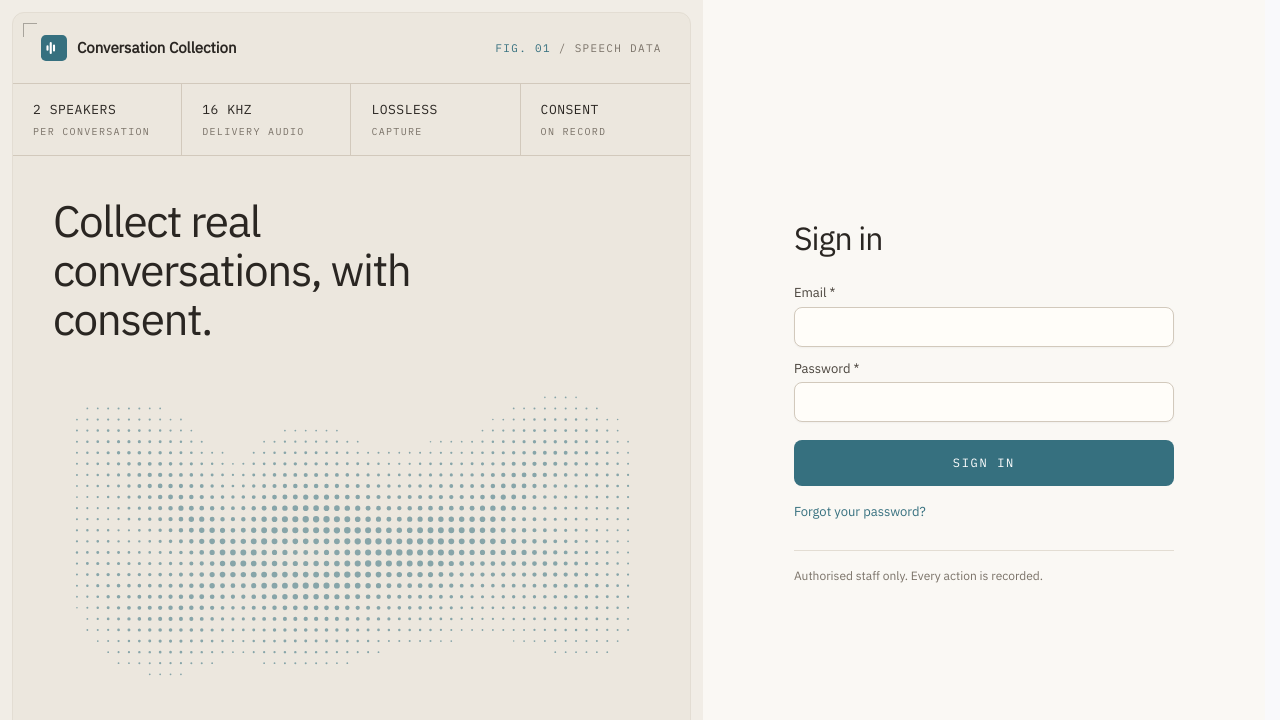
it: LoginPage › asks for the authenticator code, then signs in and goes to the requested page
This screenshot has width=1280, height=720.
Type "admin@example.org" into the field labelled "Email *" at (984,327), box [794,307,1174,347]
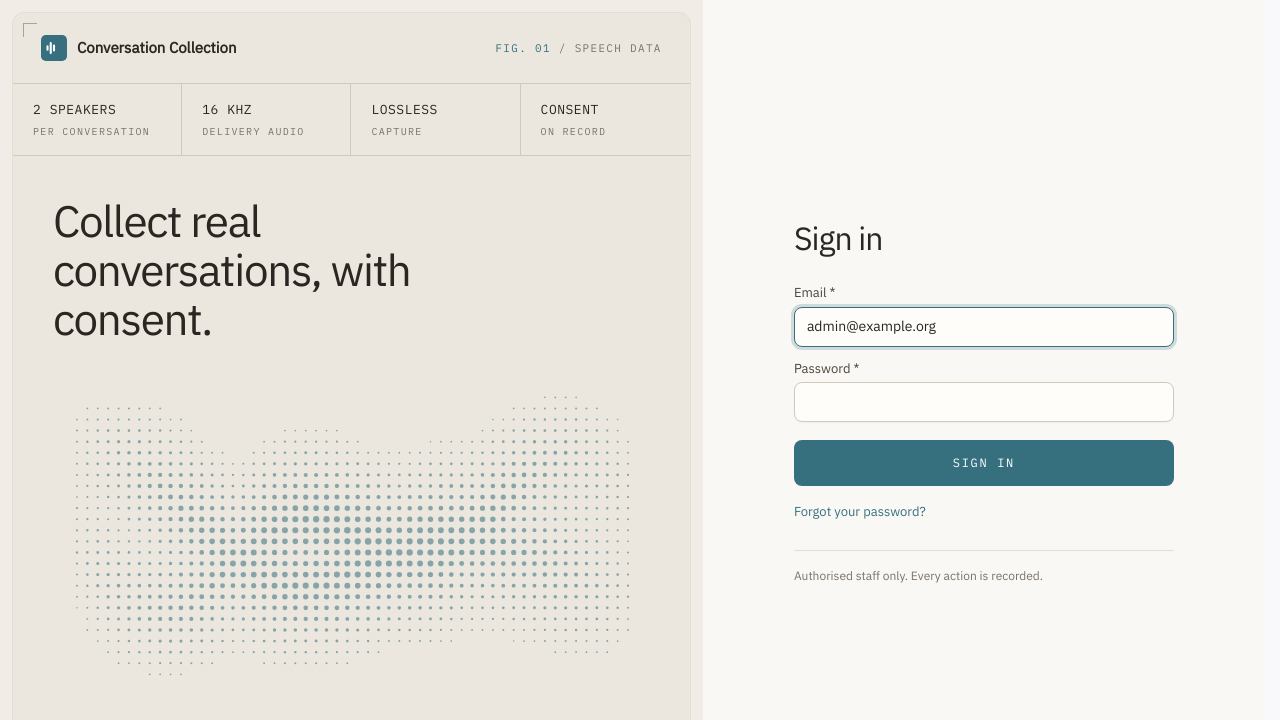
Type "secret-password" into the password field labelled "Password *" at (984,402), box [794,382,1174,422]
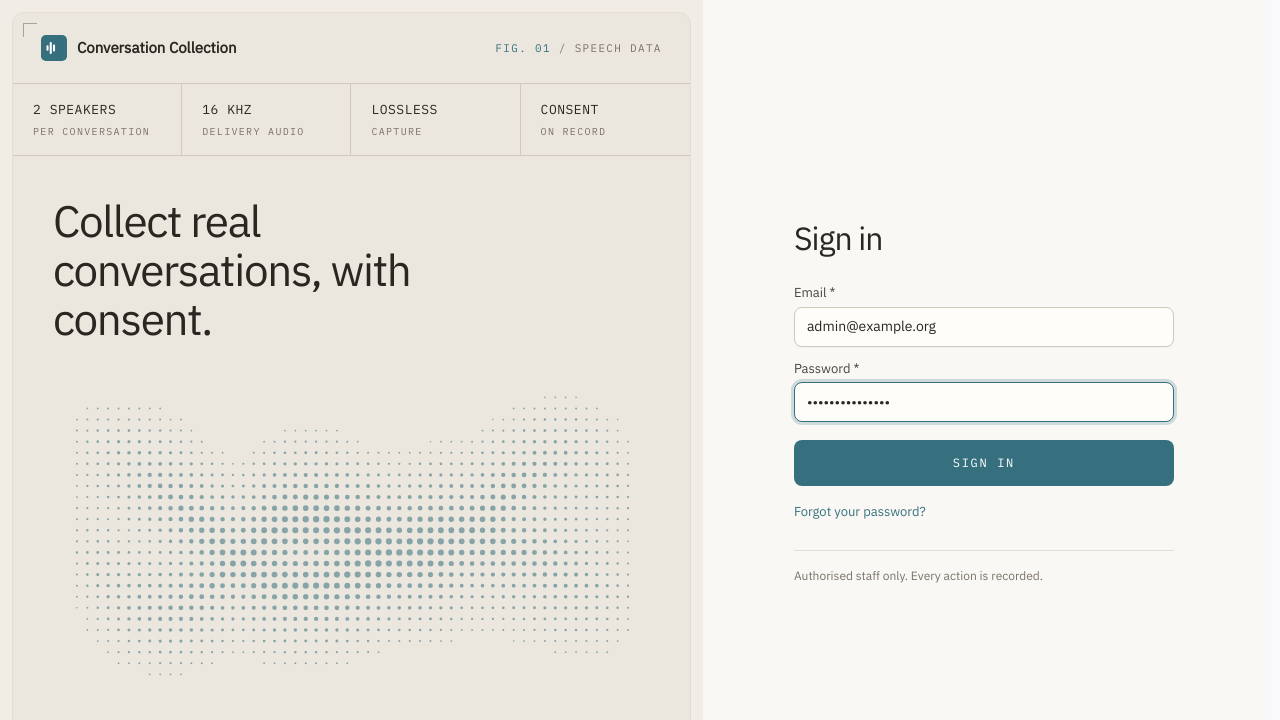
Click the button "Sign in" at (984,463), box [794,440,1174,486]
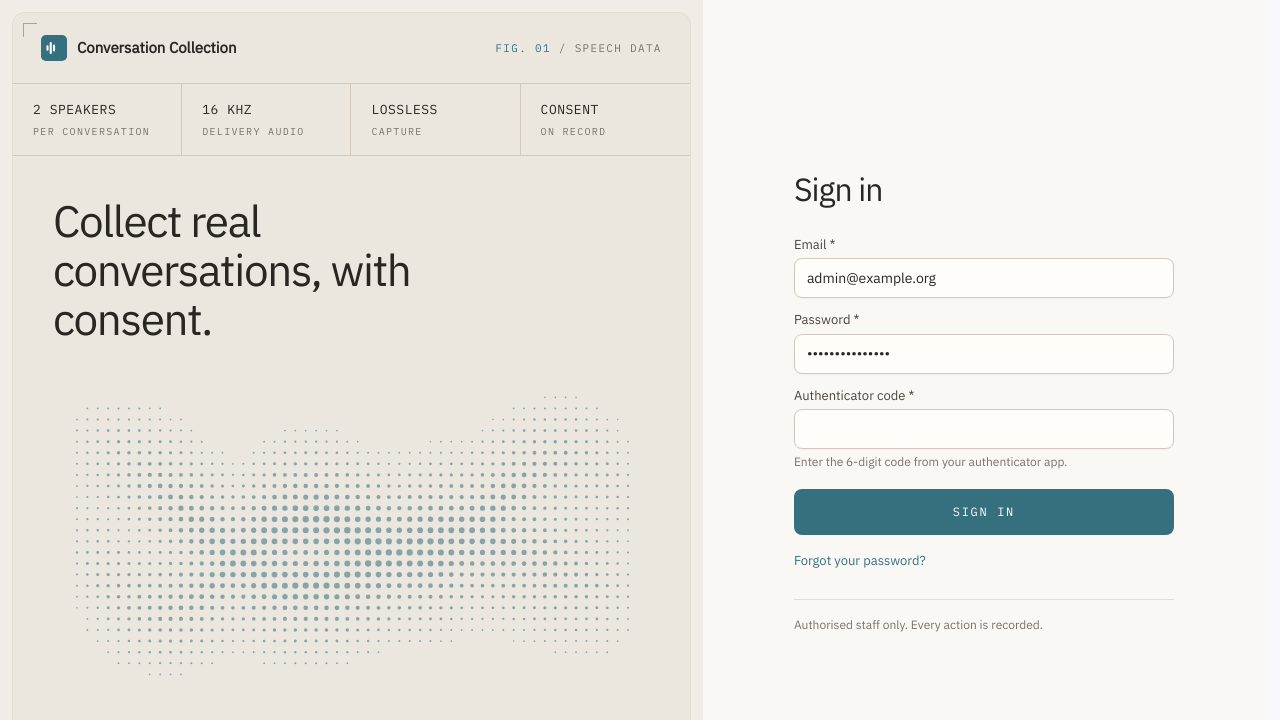
Type "123456" into the field labelled "Authenticator code *" at (984,429), box [794,409,1174,449]
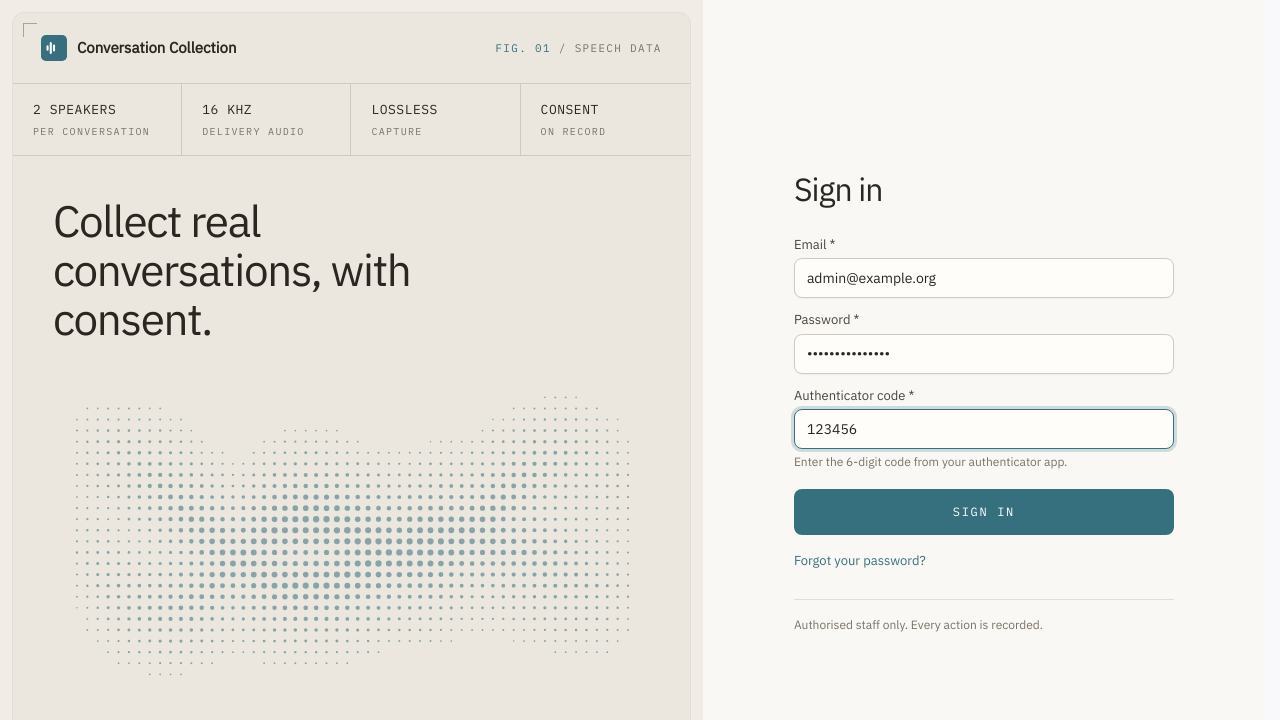
Click the button "Sign in" at (984,512), box [794,489,1174,535]
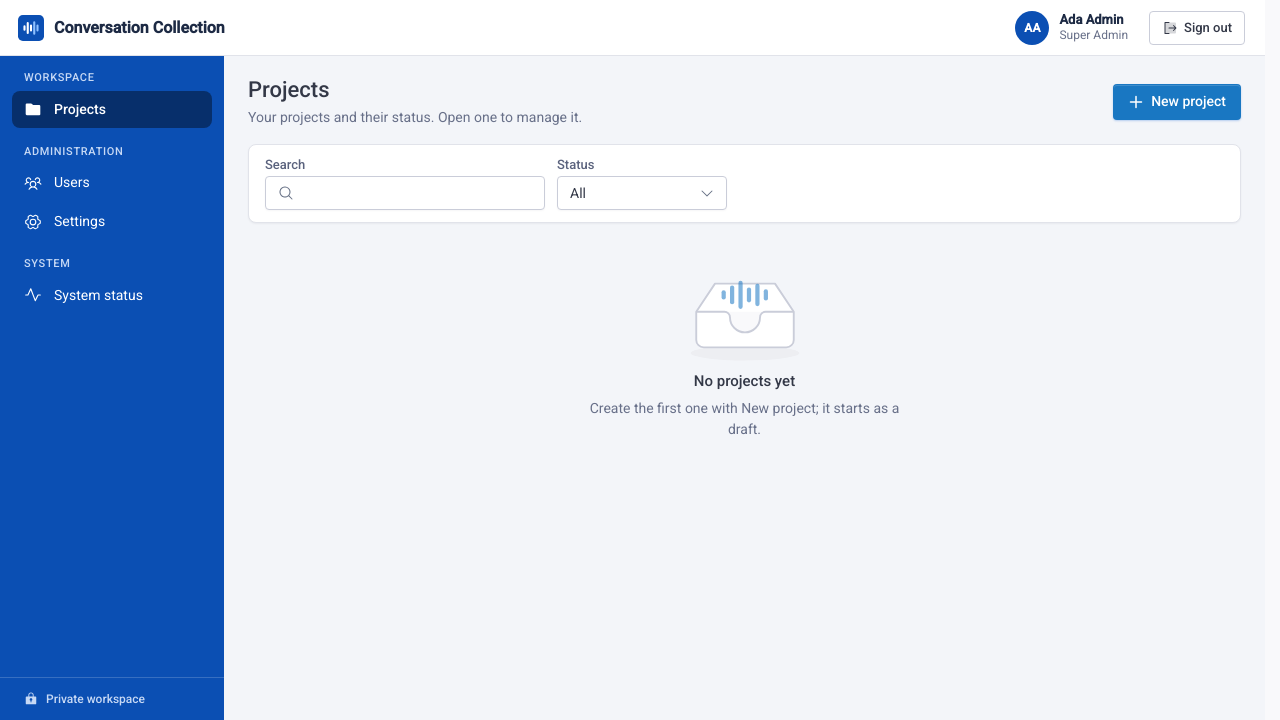
Check: the heading "Projects" is shown, box [248,77,330,102]
